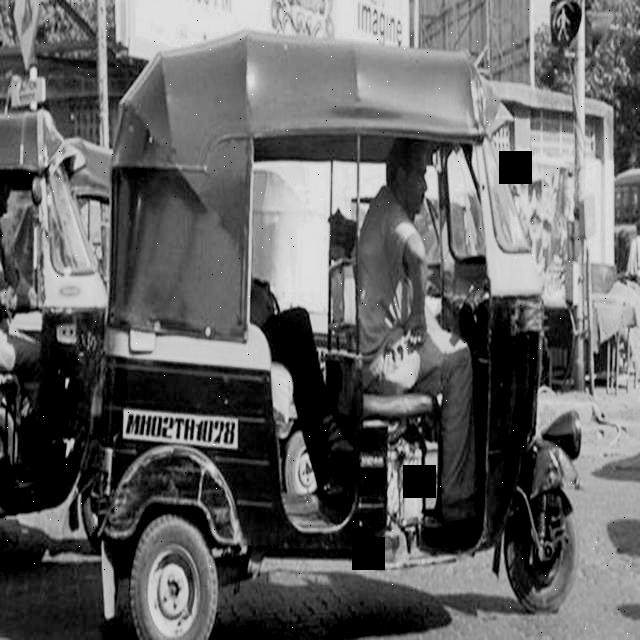Auto-Rickshaw: (89, 42, 592, 640), (2, 96, 114, 576)
